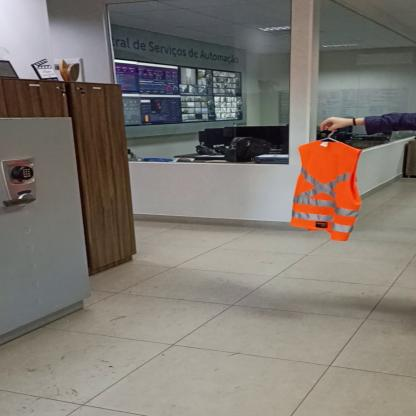colete: (286, 138, 366, 243)
